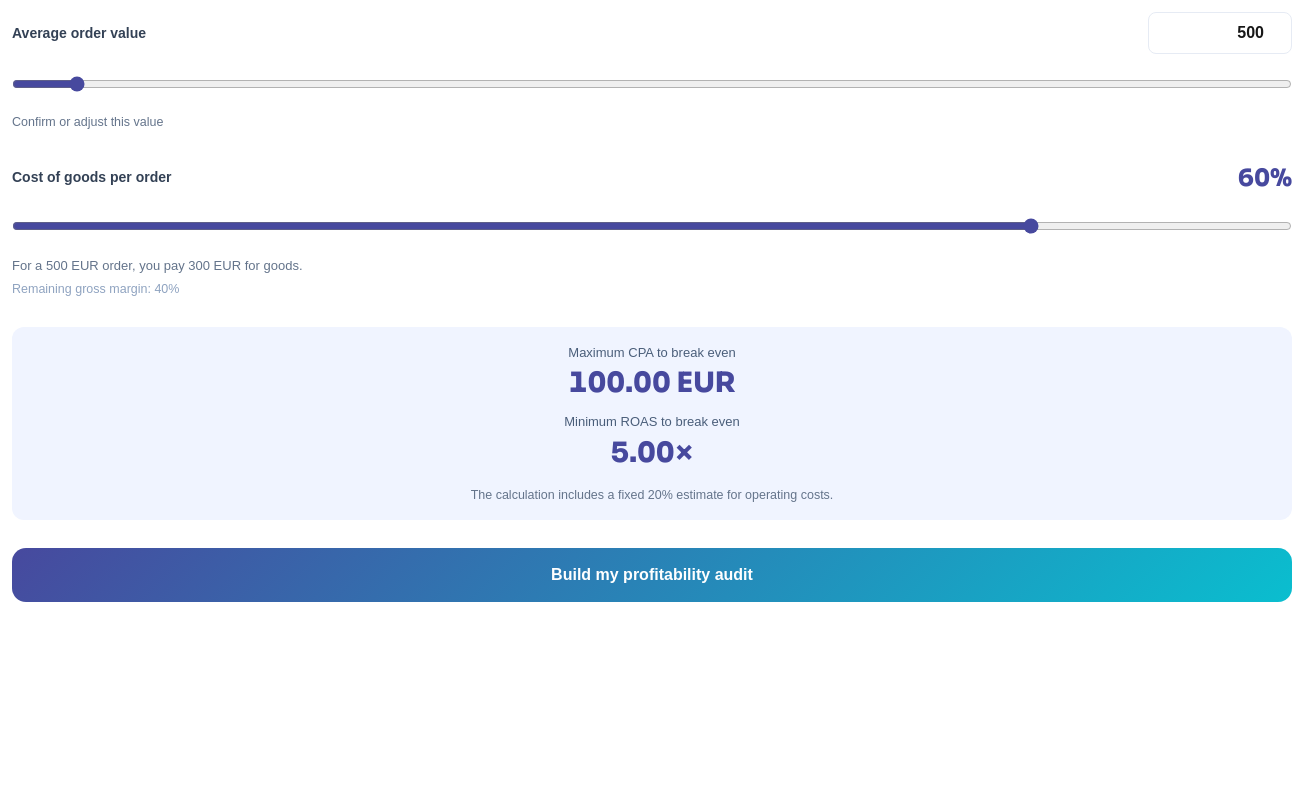
Scenario: updates the submitted goods cost from the acquisition percentage slider
Step 1. Set the slider named "Cost of goods percentage" to "50" → (863, 226), box left=12, top=204, right=1292, bottom=248
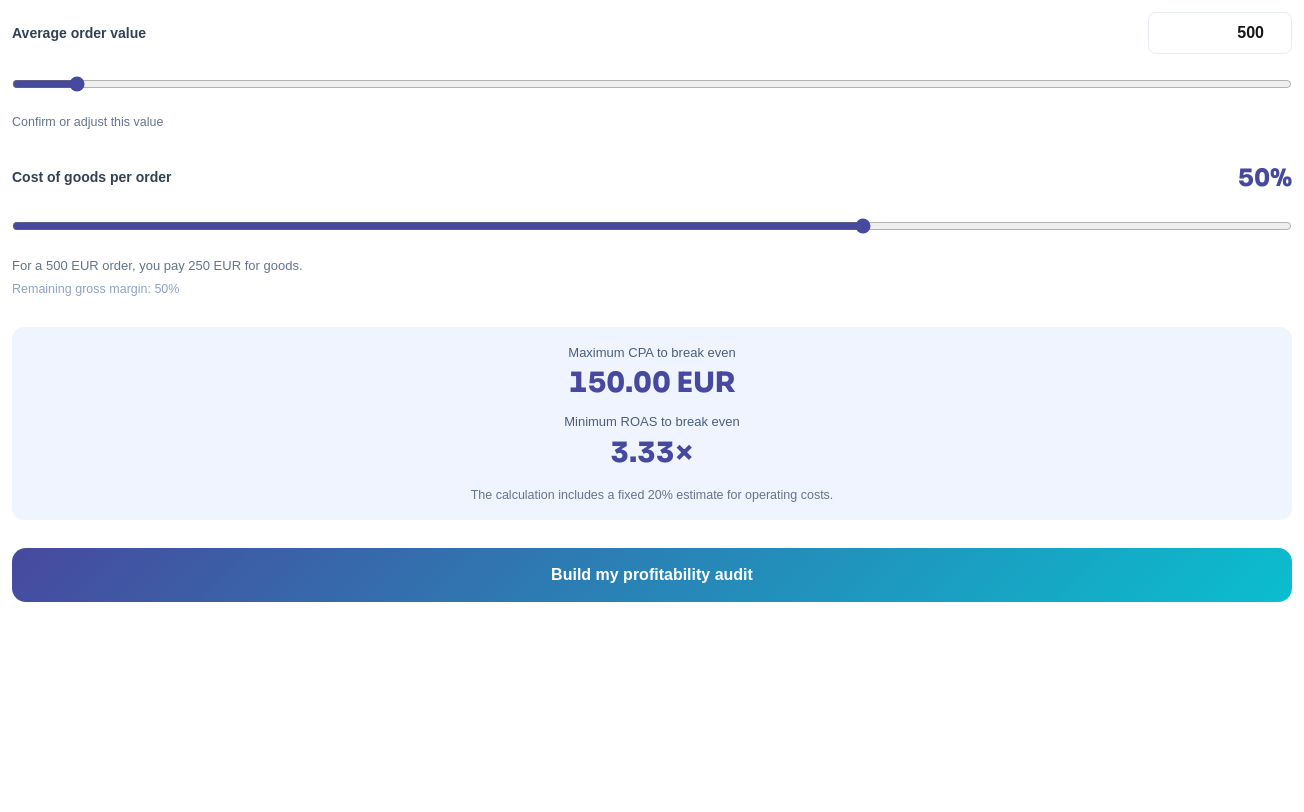
Expected: the element named "goodsCost" holds "250", left=12, top=160, right=1292, bottom=299
Result: the text "For a 500 EUR order, you pay 250 EUR for goods." is shown at left=12, top=258, right=302, bottom=273
